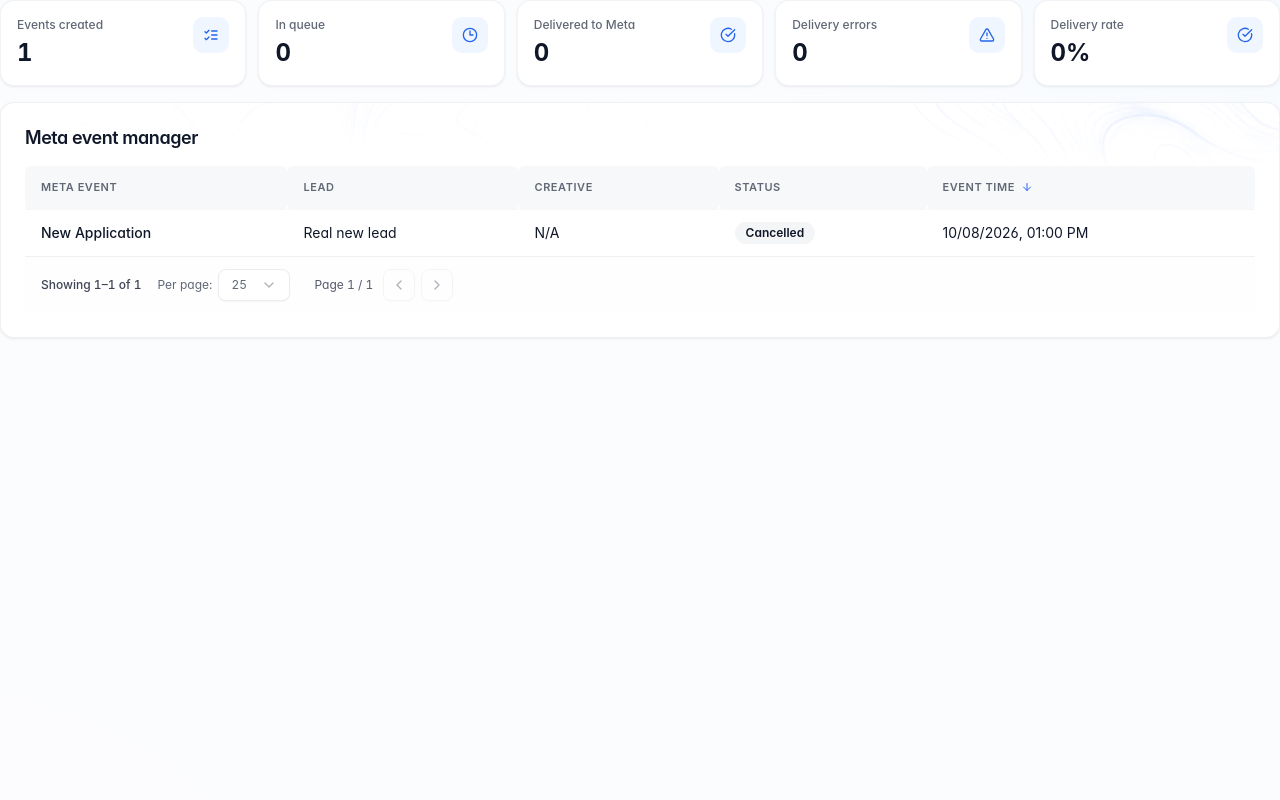
Test: Meta creation events › does not allow retrying cancelled events
Click the text "Real new lead".
click(350, 232)  # box [287, 210, 518, 256]
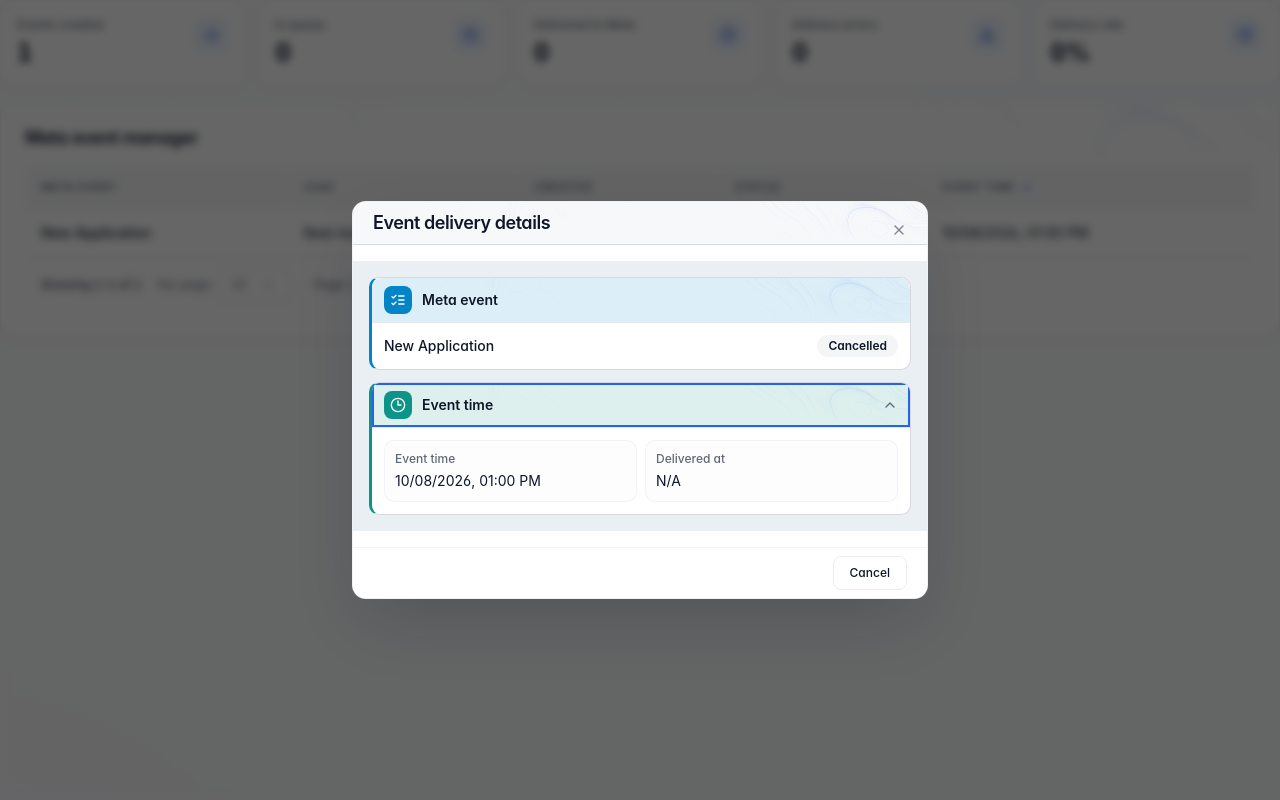
expect the text "Cancelled" is shown: met, box [817, 335, 898, 357]
